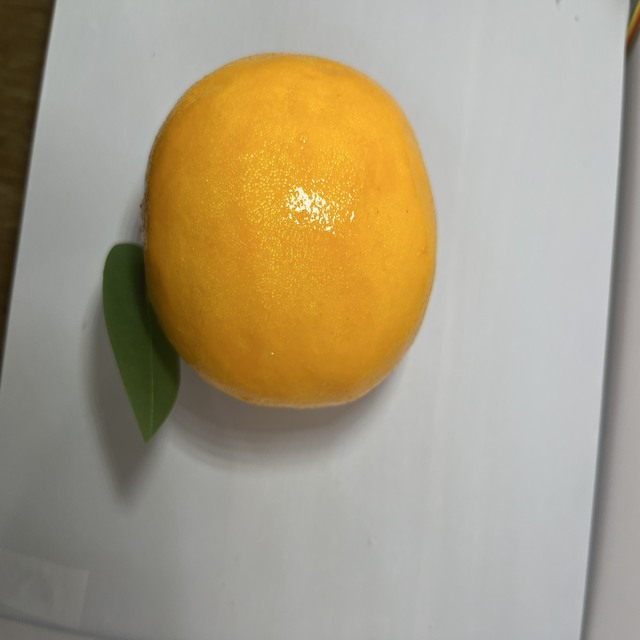Cam vang: (122, 49, 448, 422)
